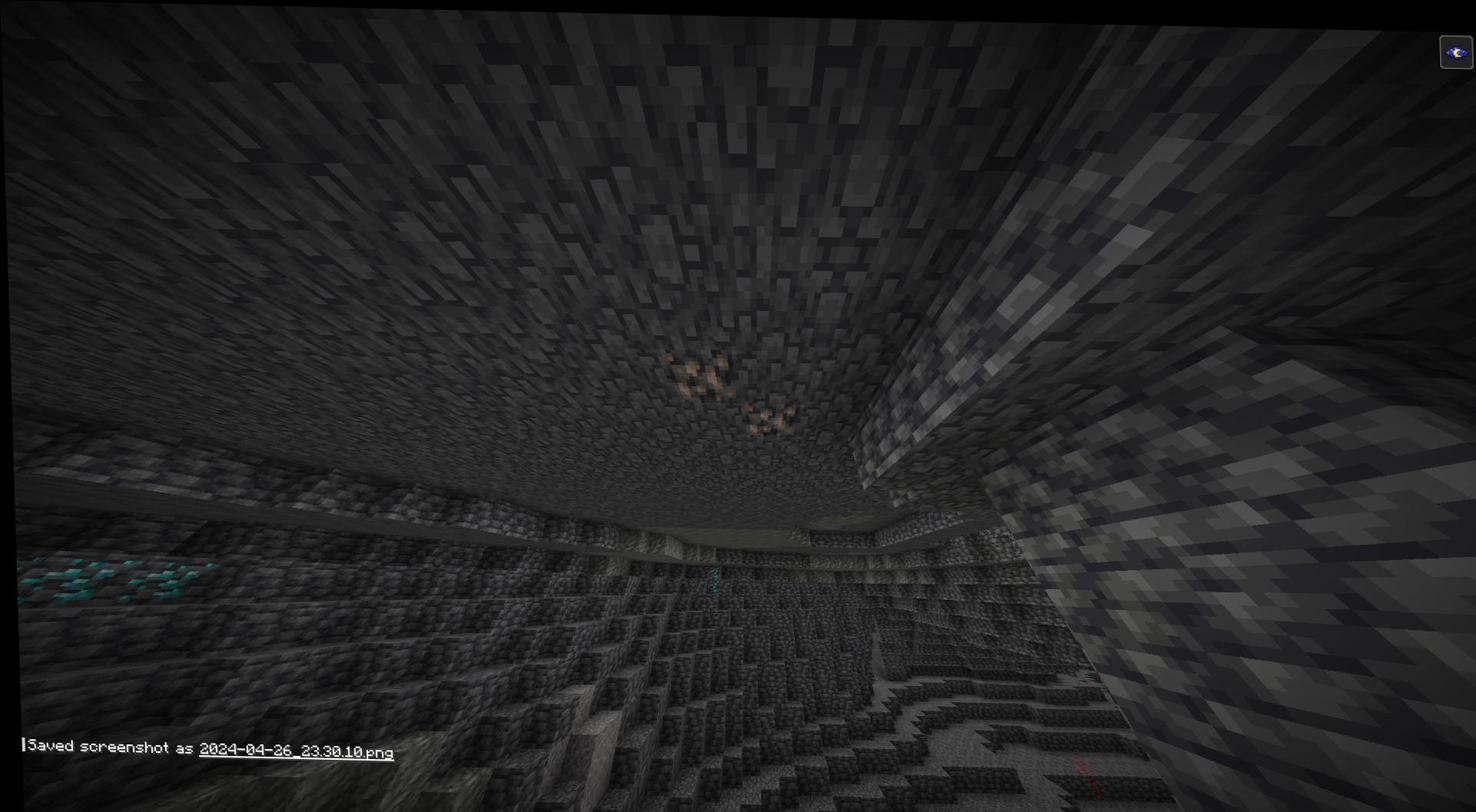diamond ore: (13, 538, 214, 609), (697, 562, 723, 593)
iron ore: (659, 345, 735, 401), (740, 401, 795, 433)
redstone ore: (1062, 745, 1110, 795)
